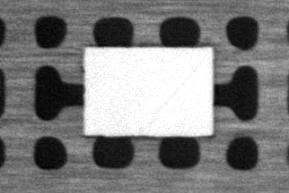DIE_CRACK: (149, 51, 209, 117)
